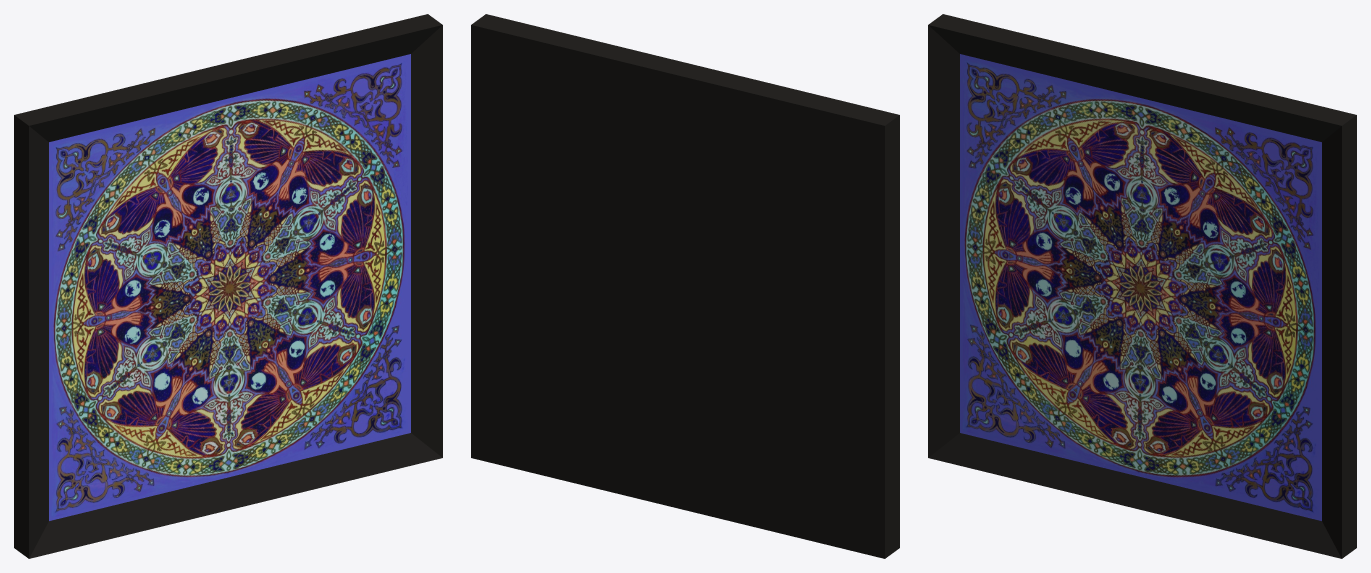
Rendered from flower-of-life-fol-kaleidoscope-a2-stained-black-v2.glb.
3 views of the same model, side by side, from view 1: azimuth 30°, elevation 25°; view 2: azimuth 150°, elevation 25°; view 3: azimuth 330°, elevation 25° (orthographic).
Visible parts, largest first — view 1: FramedPrint; view 2: FramedPrint; view 3: FramedPrint.
Part boxes in pixels (x1,y1,x2,y2): FramedPrint: [14, 14, 442, 558]; FramedPrint: [471, 14, 899, 558]; FramedPrint: [928, 14, 1356, 558].
Size of the model in its own units: 0.48 by 0.48 by 0.03.
Materials: 2 (1 with a texture image).
